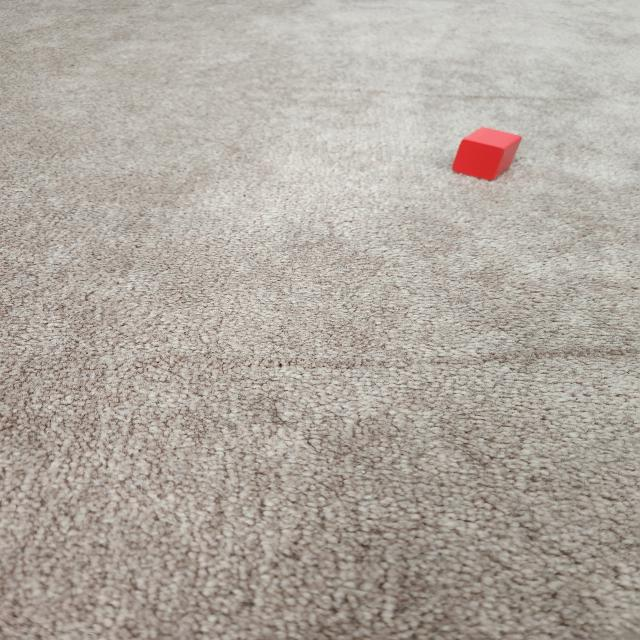red cube: (456, 129, 522, 178)
